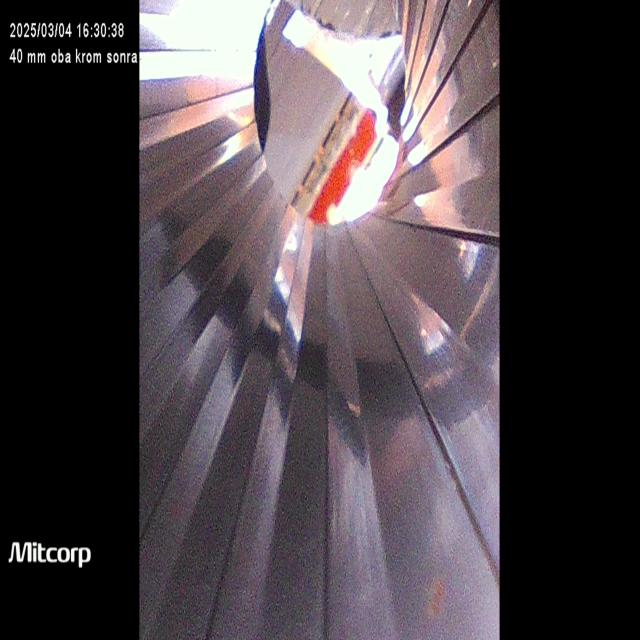hata_4.2: (414, 550, 464, 636)
